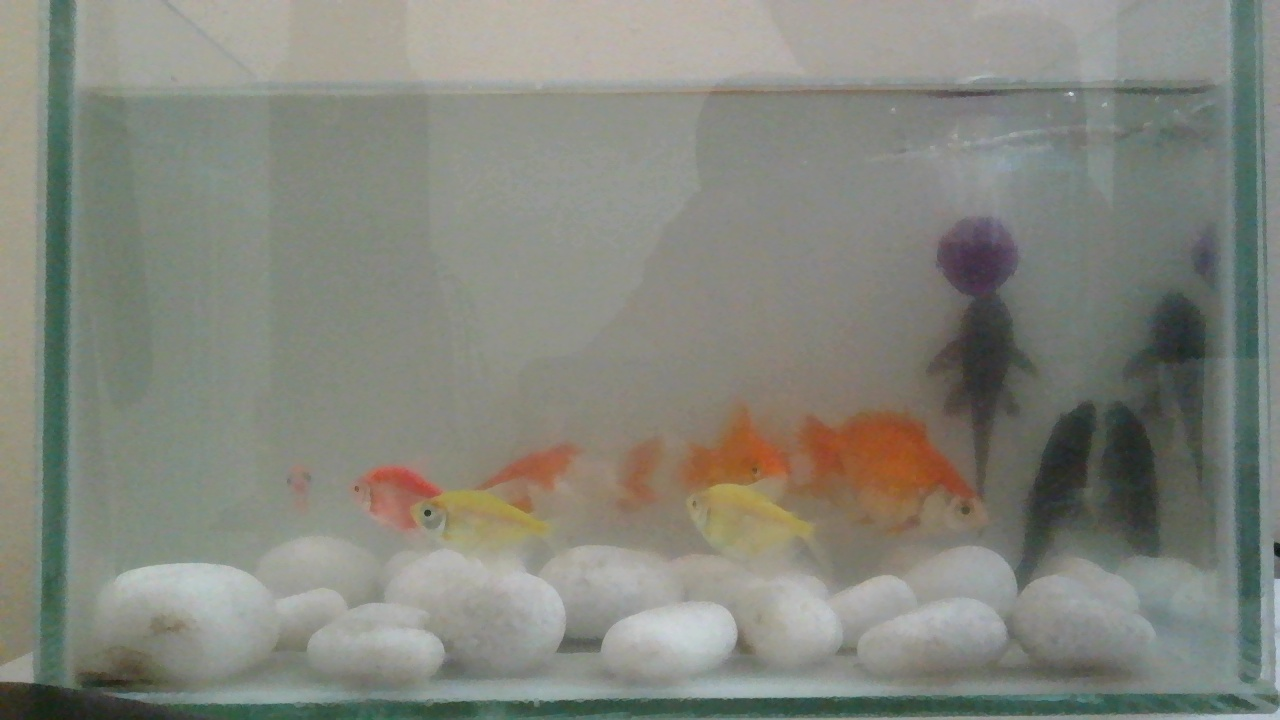fish: (358, 451, 572, 679), (350, 456, 576, 559), (681, 474, 835, 584), (350, 456, 451, 540), (471, 439, 587, 508)
